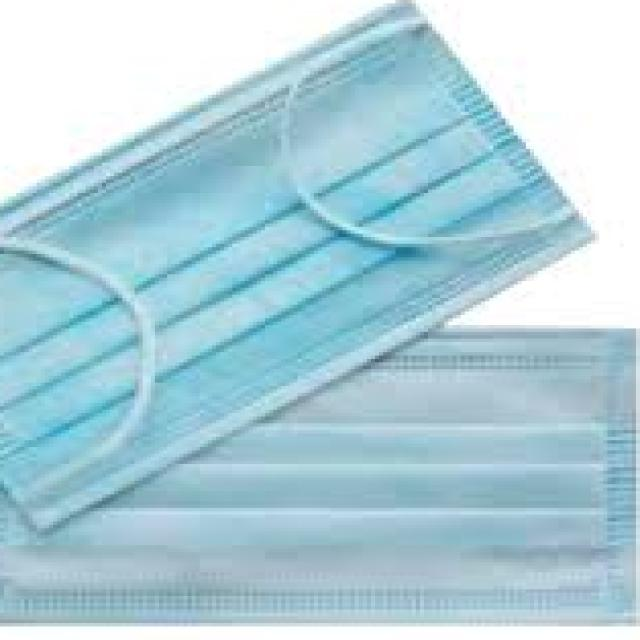organic: (32, 15, 601, 628)
